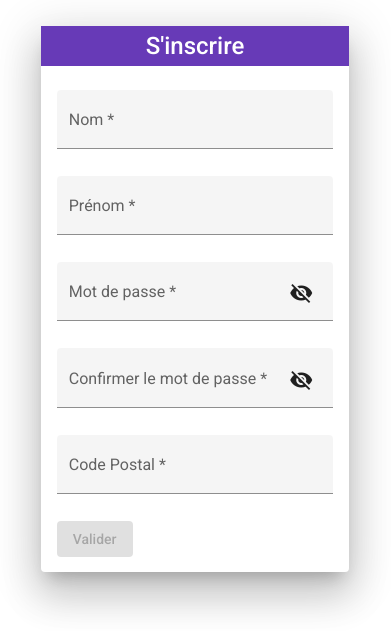
Test case: Sign In Form › should display or hide password when click on the visibility button of password field
Type "Password123!" into the password field named "password" at point(176, 300), box [69,291,282,309]
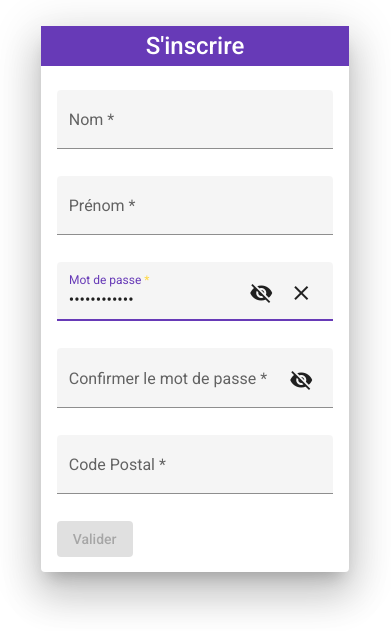
Click the 1st button "visibility" at point(261, 294), box [241,274,281,314]
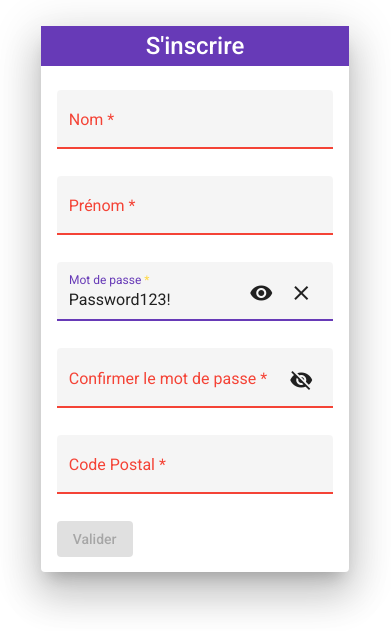
Expected: the field named "password" shows its text, [69,291,242,309]
Click the 1st button "visibility" at point(261, 294), box [241,274,281,314]
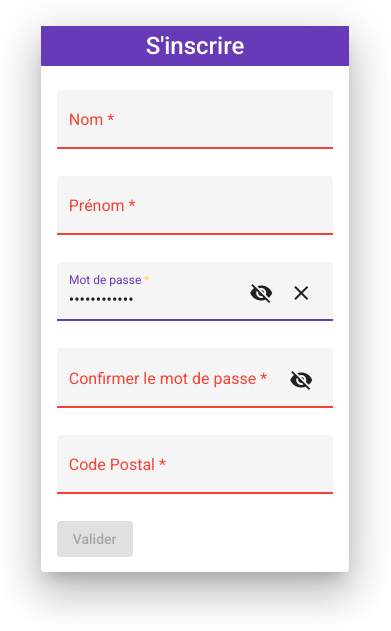
Expected: the password field named "password" hides its text, [69,291,242,309]
